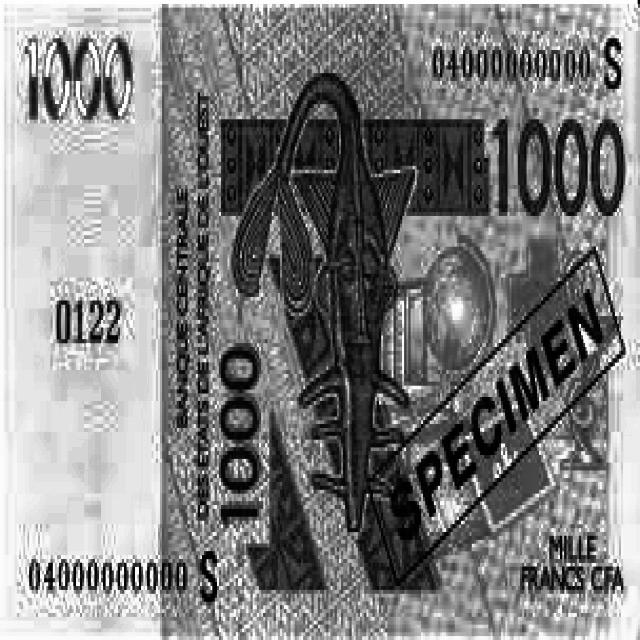niaar teemeer: (7, 7, 640, 636)
